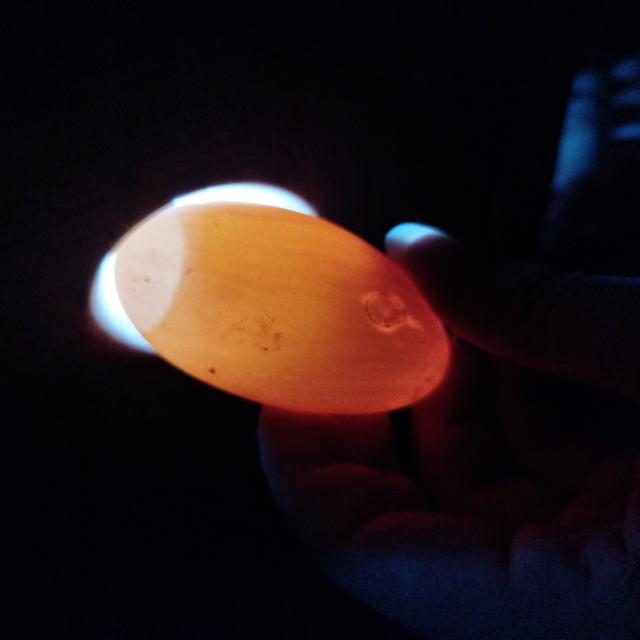Camara de Ar: (115, 209, 184, 333)
Rachadura: (365, 292, 406, 327)
